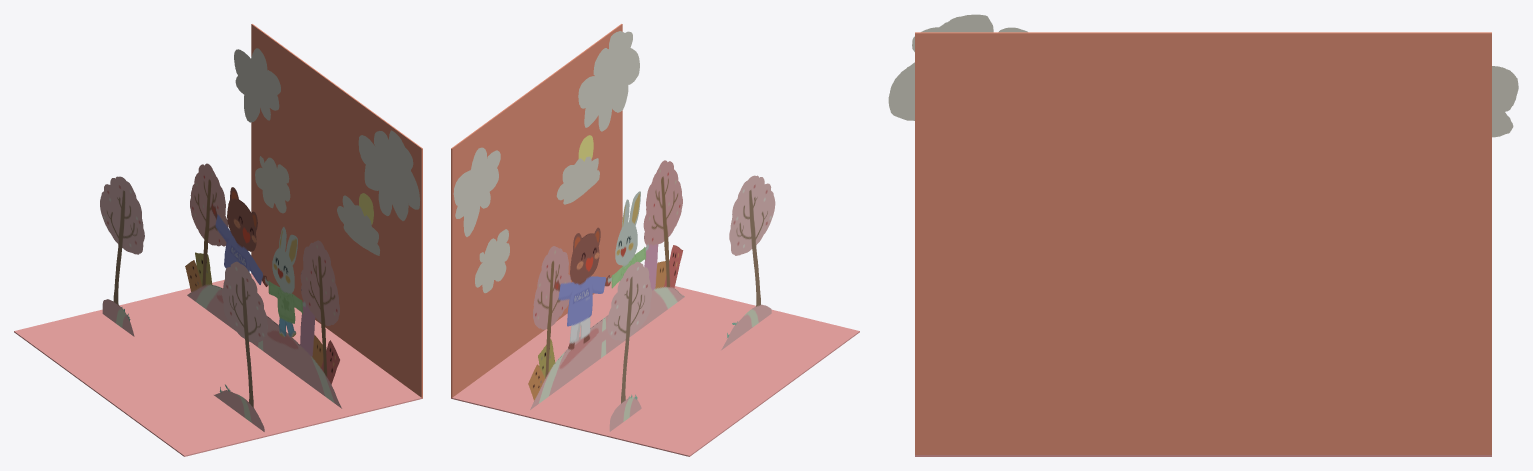
3 renders of one model, left to right at view 1: azimuth 30°, elevation 25°; view 2: azimuth 150°, elevation 25°; view 3: azimuth 270°, elevation 25°, orthographic. The views are drawn at different scales.
Visible parts, largest first — view 1: floor, ceil, main, back, front; view 2: floor, ceil, main, back, front; view 3: ceil, back, floor.
Part boxes in pixels (<box>): floor: <box>14,273,422,456</box>; ceil: <box>251,24,422,398</box>; main: <box>185,163,341,408</box>; back: <box>234,48,419,255</box>; front: <box>100,176,267,431</box>; floor: <box>451,281,859,456</box>; ceil: <box>451,24,622,398</box>; main: <box>528,160,684,409</box>; back: <box>453,31,639,293</box>; front: <box>607,175,775,431</box>; ceil: <box>915,32,1491,454</box>; back: <box>888,14,1518,137</box>; floor: <box>915,455,1491,456</box>.
Bounding box in the file's own units: 6.66 × 6.84 × 9.
Materials: 5 (3 with a texture image).
